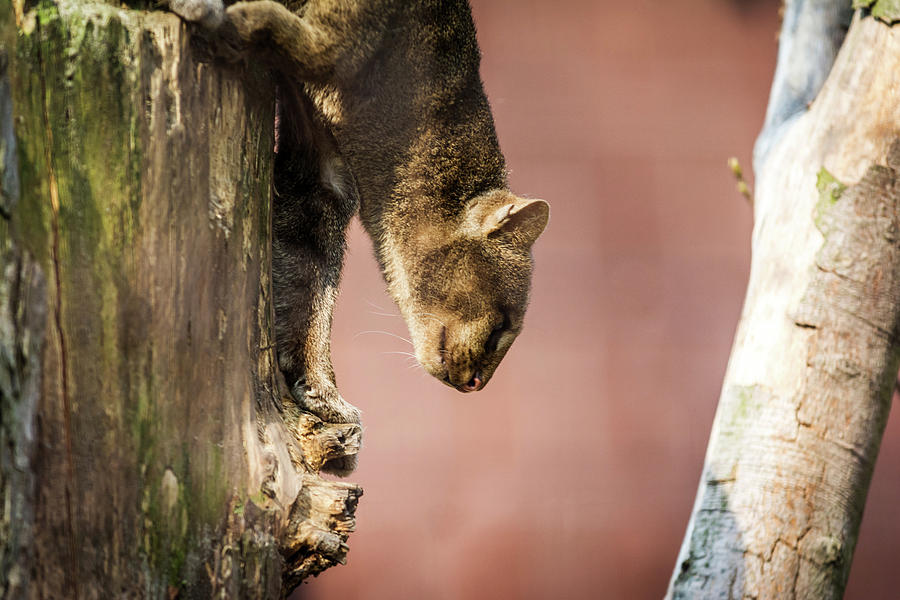Jaguarundi: (252, 19, 543, 421)
